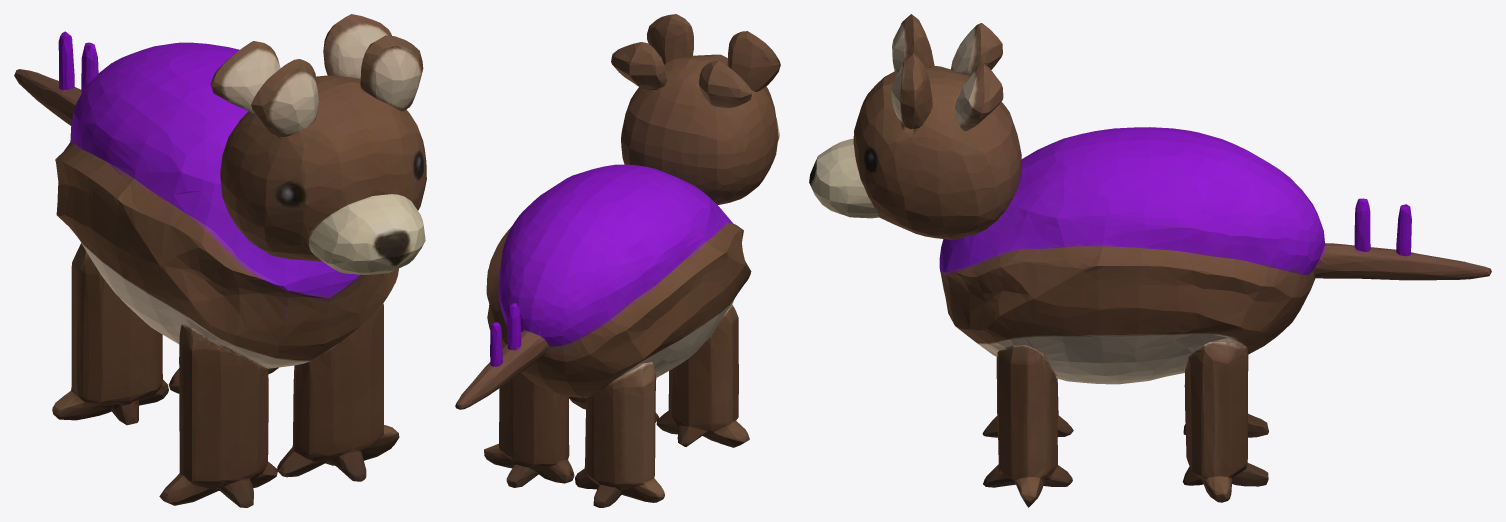
The model's file is 036-geodillo.glb.
3 renders of one model, left to right at view 1: azimuth 30°, elevation 25°; view 2: azimuth 150°, elevation 25°; view 3: azimuth 270°, elevation 25°, orthographic. The views are drawn at different scales.
Visible parts, largest first — view 1: geometry_0; view 2: geometry_0; view 3: geometry_0.
Part boxes in pixels (x1,y1,x2,y2): geometry_0: (14, 14, 426, 507); geometry_0: (455, 14, 780, 507); geometry_0: (809, 14, 1491, 507).
Bounding box in the file's own units: 0.3778 × 0.6946 × 1.
Materials: 1 (1 with a texture image).
